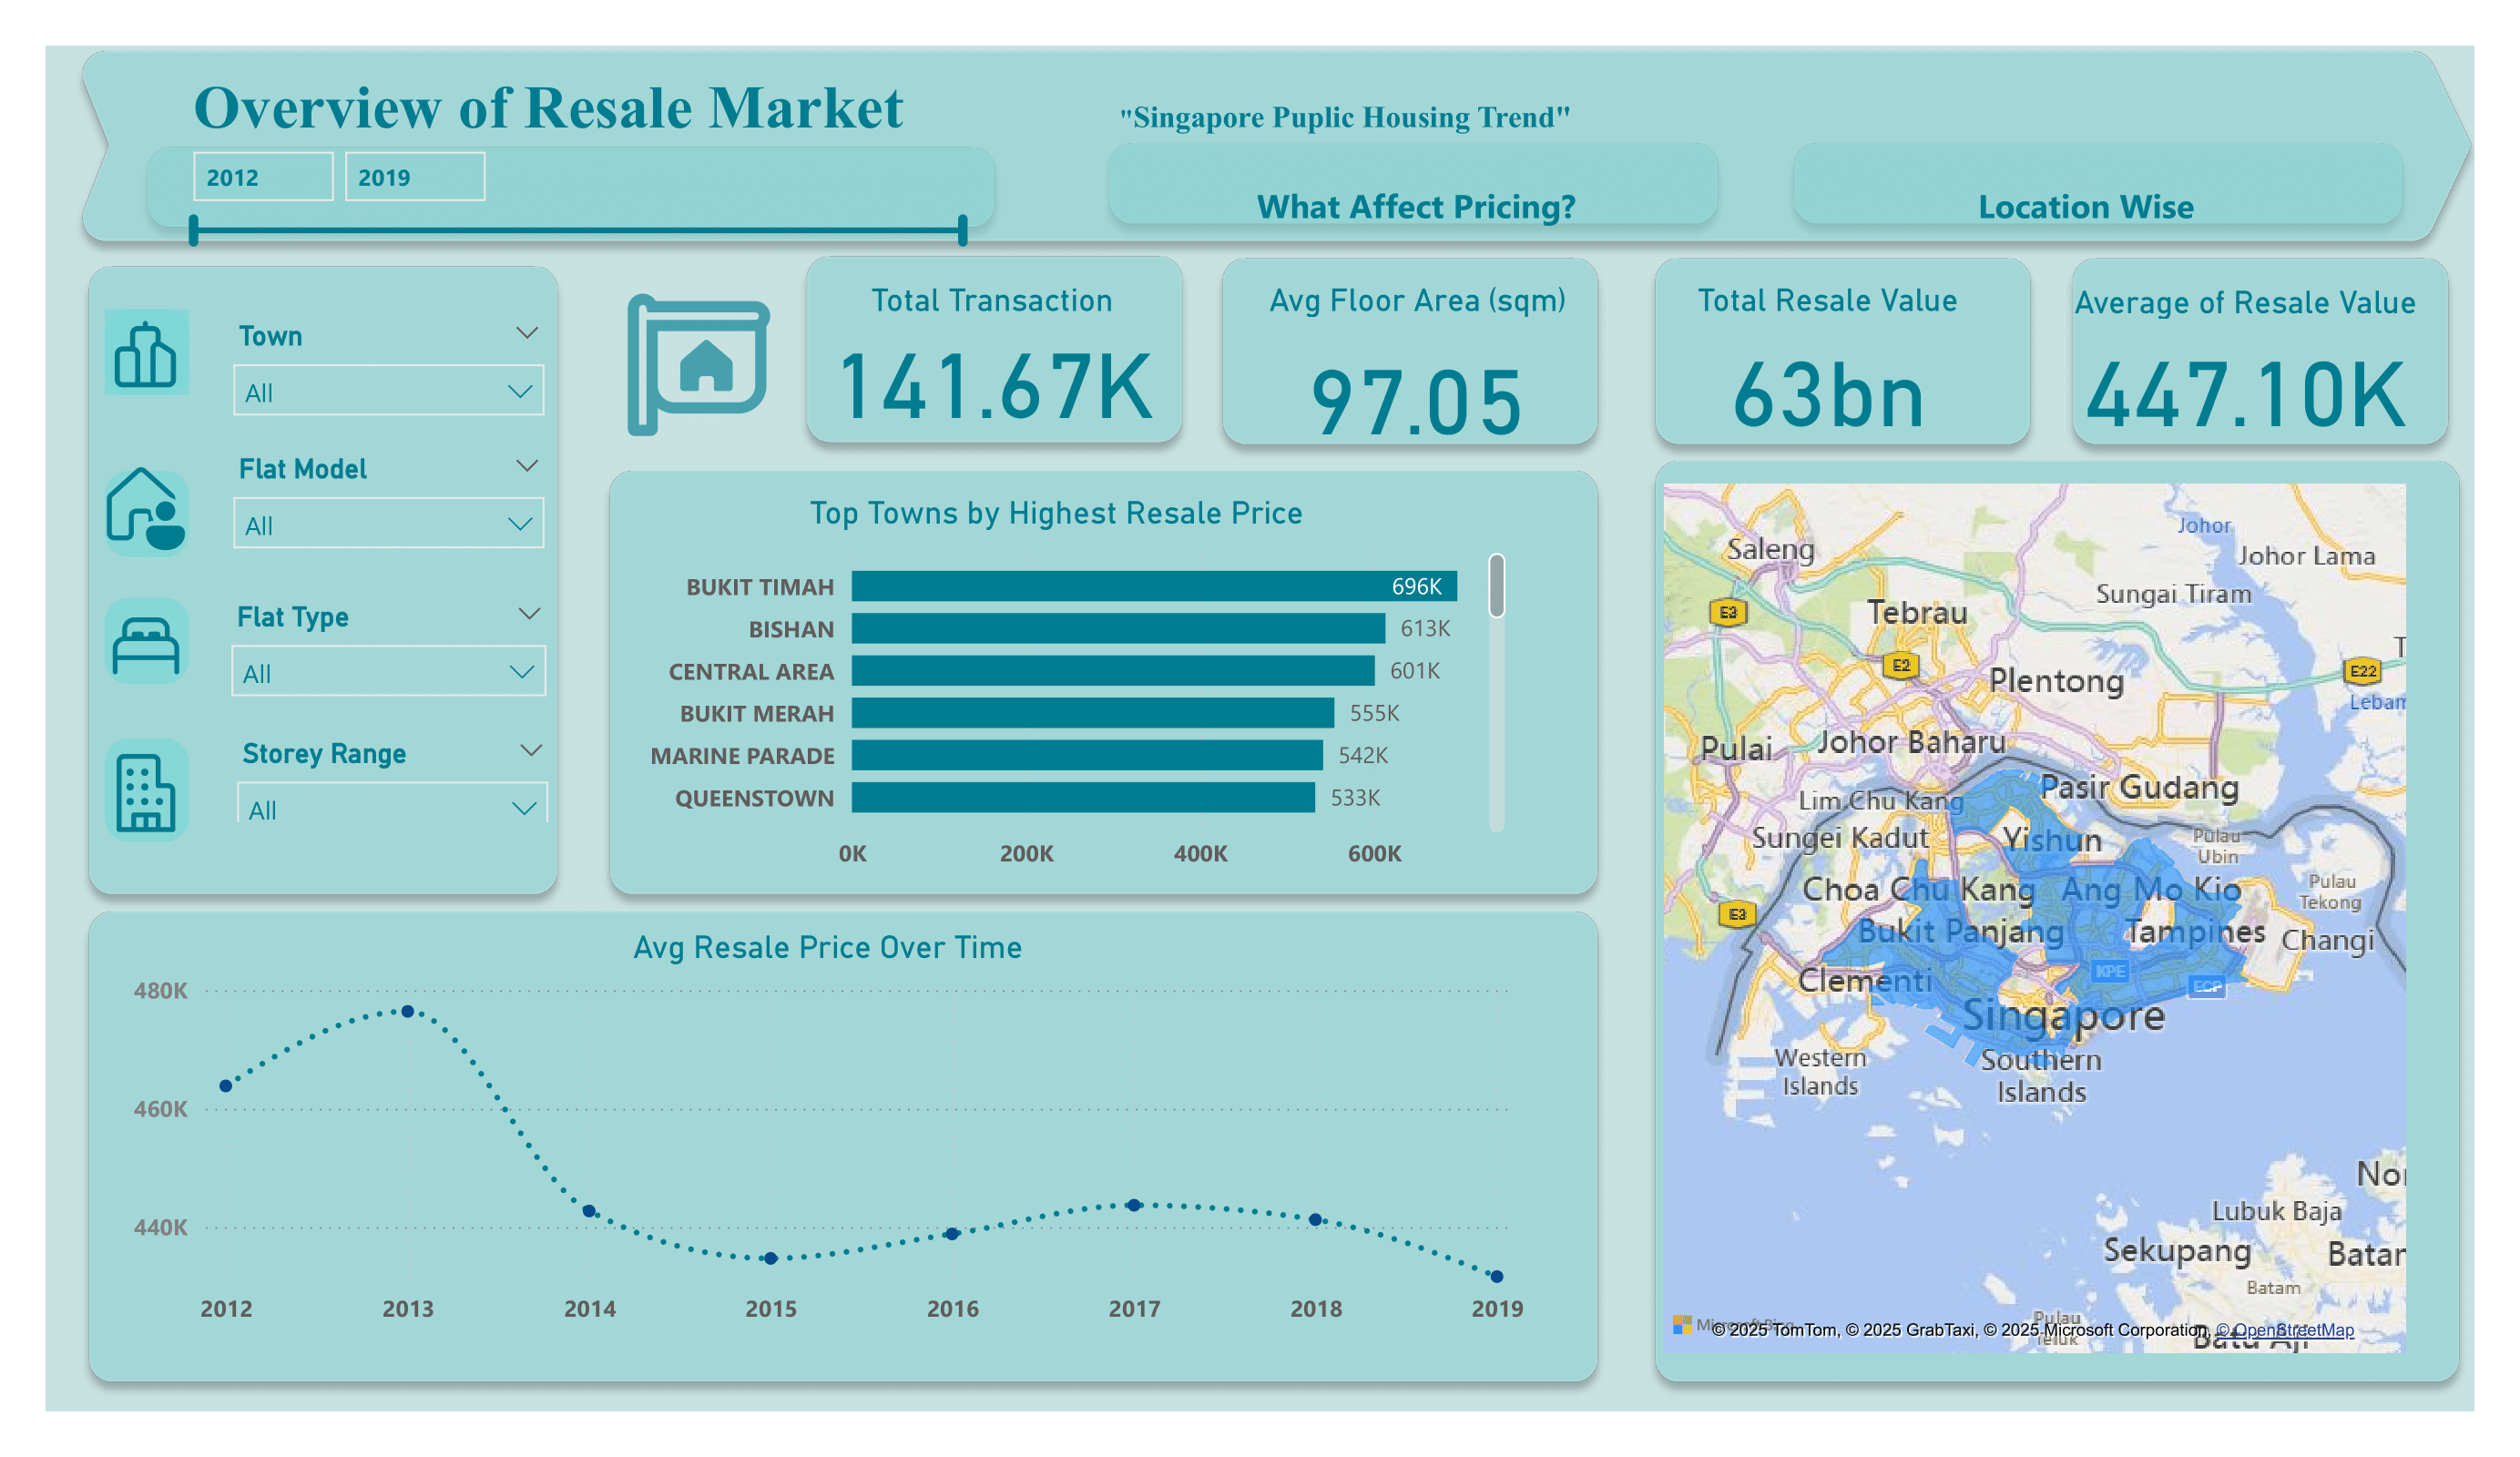

Layout of this report page (visuals, bound fields, positions):
{"tool":"powerbi","page":{"name":"Overview","canvas":[1280,720],"ordinal":0},"visuals":[{"type":"card","title":"Average of Resale Value","fields":{"Values":["Avg(hdb_resale_flats.resale_price)"]},"box":[1056.3,125.5,207.2,86.6],"z":0},{"type":"card","title":"Total Transaction","fields":{"Values":["CountNonNull(hdb_resale_flats.resale_price)"]},"box":[393.9,124.5,210.1,79.8],"z":1000},{"type":"card","title":"Avg Floor Area (sqm)","fields":{"Values":["Avg(hdb_resale_flats.floor_area_sqm)"]},"box":[623.5,124.5,199.4,97.3],"z":2000},{"type":"lineChart","title":"Avg Resale Price Over Time","fields":{"Category":["hdb_resale_flats.month.Variation.Date Hierarchy.Year","hdb_resale_flats.month.Variation.Date Hierarchy.Quarter","hdb_resale_flats.month.Variation.Date Hierarchy.Month"],"Y":["Avg(hdb_resale_flats.resale_price)"]},"box":[41.2,465,742.5,218.8],"z":3000},{"type":"barChart","title":"Top Towns by Highest Resale Price","fields":{"Category":["hdb_resale_flats.town"],"Y":["Avg(hdb_resale_flats.resale_price)"]},"box":[282,236,532,208],"z":4000},{"type":"card","title":"Total Resale Value","fields":{"Values":["Sum(hdb_resale_flats.resale_price)"]},"box":[822.9,124.5,233.4,88.5],"z":5000},{"type":"slicer","fields":{"Values":["hdb_resale_flats.flat_model"]},"box":[88.8,210,183.8,58.8],"z":6000},{"type":"slicer","fields":{"Values":["hdb_resale_flats.flat_type"]},"box":[87.5,287.5,186.2,62.5],"z":7000},{"type":"slicer","fields":{"Values":["hdb_resale_flats.Year-of-resale"]},"box":[65,46,434,64],"z":8000},{"type":"slicer","fields":{"Values":["hdb_resale_flats.town"]},"box":[88.8,140,183.8,55],"z":9000},{"type":"filledMap","fields":{"Y":["Min(hdb_resale_flats.town_lat)"],"X":["Min(hdb_resale_flats.town_lon)"],"Category":["hdb_resale_flats.town"]},"box":[847.5,226.2,401.2,467.5],"z":10000},{"type":"textbox","box":[41,9,1239,50],"z":11000},{"type":"slicer","fields":{"Values":["hdb_resale_flats.storey_range"]},"box":[91.2,360,183.8,48.8],"z":12000},{"type":"pageNavigator","box":[551.2,58.8,697.5,50],"z":13000}]}

Visuals, with their boxes on the page's 1280x720 design canvas (x1, y1, x2, y2). These are canvas units, not pixel positions in the 2520x1457 screenshot, which may show the page scaled, cropped or inside an application window:
"Average of Resale Value" card: [1056,126,1264,212]
"Total Transaction" card: [394,124,604,204]
"Avg Floor Area (sqm)" card: [624,124,823,222]
"Avg Resale Price Over Time" lineChart: [41,465,784,684]
"Top Towns by Highest Resale Price" barChart: [282,236,814,444]
"Total Resale Value" card: [823,124,1056,213]
slicer - hdb_resale_flats.flat_model: [89,210,273,269]
slicer - hdb_resale_flats.flat_type: [88,288,274,350]
slicer - hdb_resale_flats.Year-of-resale: [65,46,499,110]
slicer - hdb_resale_flats.town: [89,140,273,195]
filledMap - Min(hdb_resale_flats.town_lat) x Min(hdb_resale_flats.town_lon): [848,226,1249,694]
textbox: [41,9,1280,59]
slicer - hdb_resale_flats.storey_range: [91,360,275,409]
pageNavigator: [551,59,1249,109]
